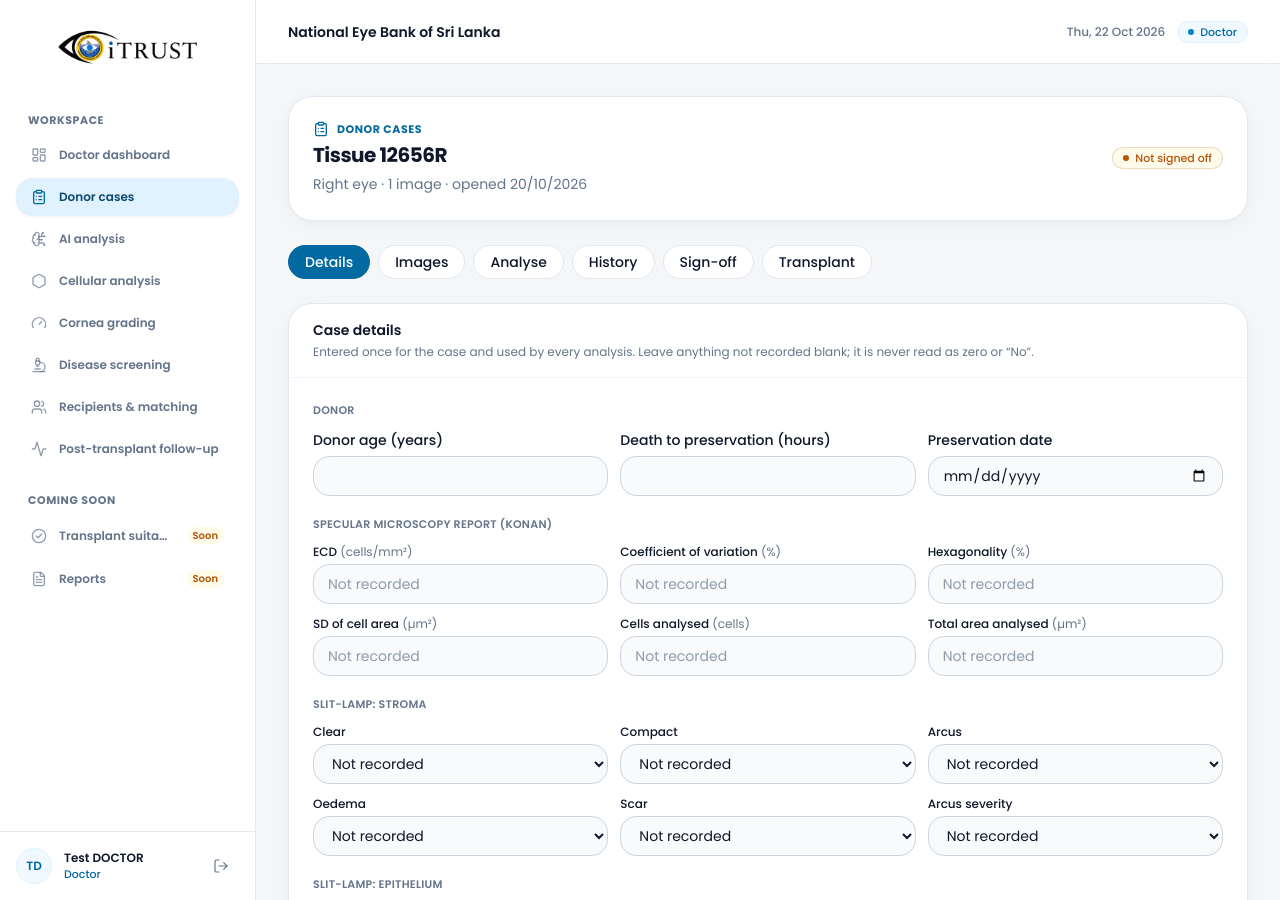
Test: Case workspace › lists every saved run in the history
What coordinates should you click on to do the following:
click the tab "History"
I would click on:
 (613, 262)
Its box is [572, 245, 654, 279].
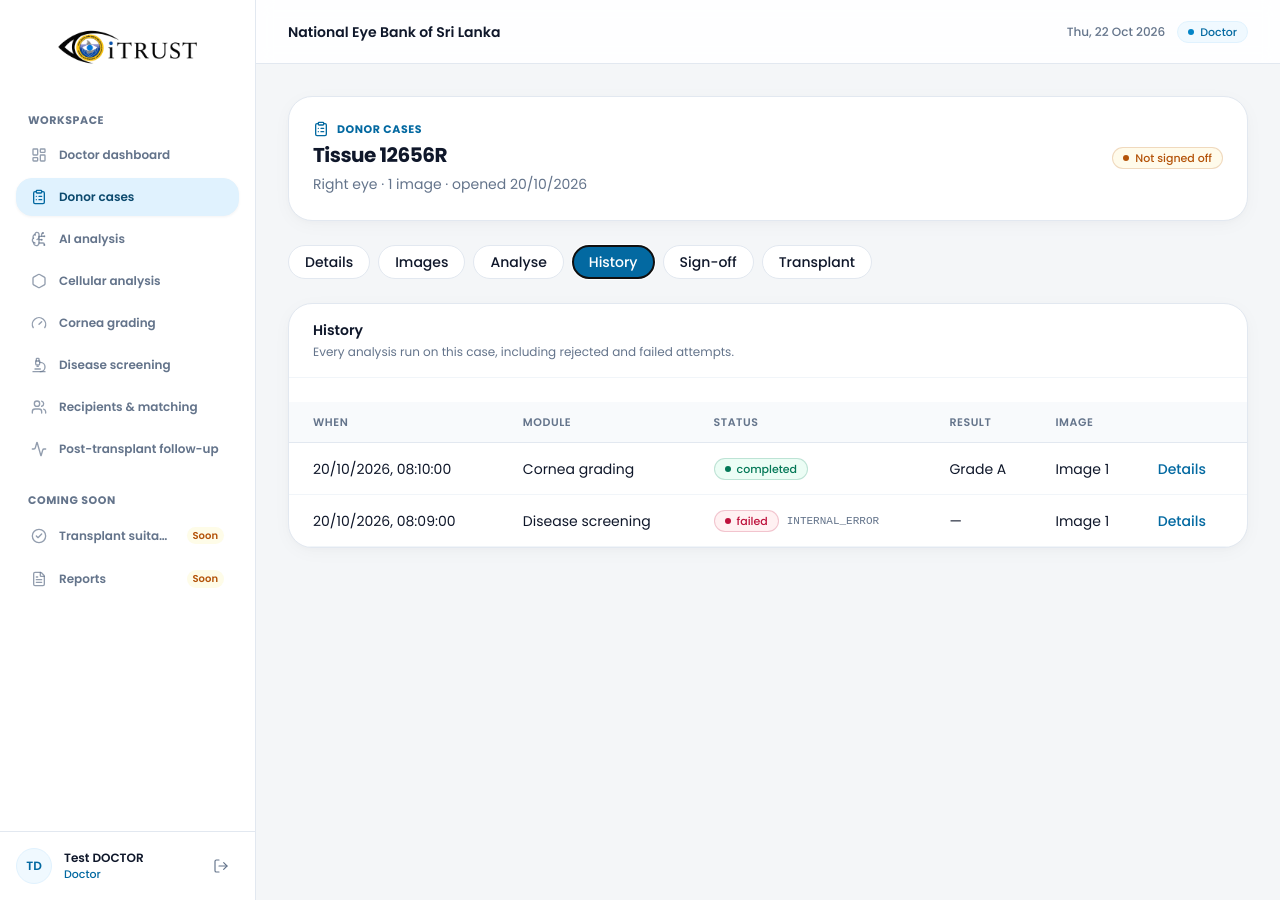
Expected: the text "Grade A" is shown, [933, 443, 1040, 495]
Expected: the text "INTERNAL_ERROR" is shown, [787, 515, 879, 527]
Expected: the text "Image 1" is shown 2 times, [1040, 443, 1142, 495]; [1040, 495, 1142, 547]
